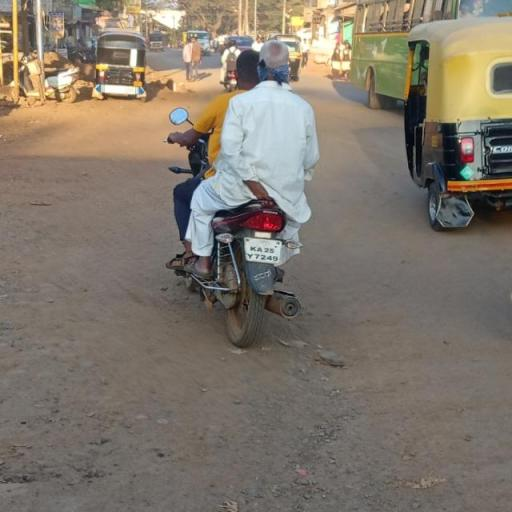bike: (162, 43, 324, 350)
numberplate: (246, 237, 284, 263)
withouthelmet: (260, 44, 290, 82), (235, 52, 259, 86)
